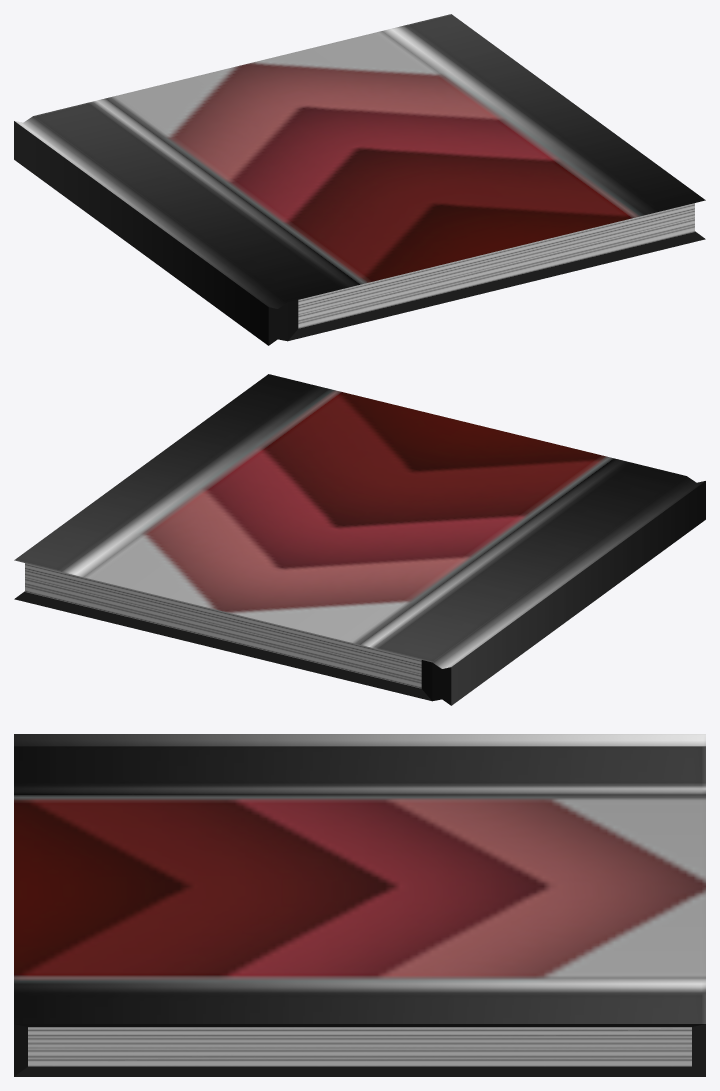
Rendered from Coffeetable_book_D.FBX.
3 views of the same model, one above another, from view 1: azimuth 30°, elevation 25°; view 2: azimuth 150°, elevation 25°; view 3: azimuth 270°, elevation 25° (orthographic). The views are drawn at different scales.
Parts seen in each view (by area): view 1: Coffee_Table_Book; view 2: Coffee_Table_Book; view 3: Coffee_Table_Book.
Boxes of the visible parts, bbox=[...] form: Coffee_Table_Book: bbox=[14, 14, 705, 345]; Coffee_Table_Book: bbox=[14, 374, 705, 705]; Coffee_Table_Book: bbox=[14, 734, 705, 1076].
Bounding box in the file's own units: 94.24 × 8 × 95.
